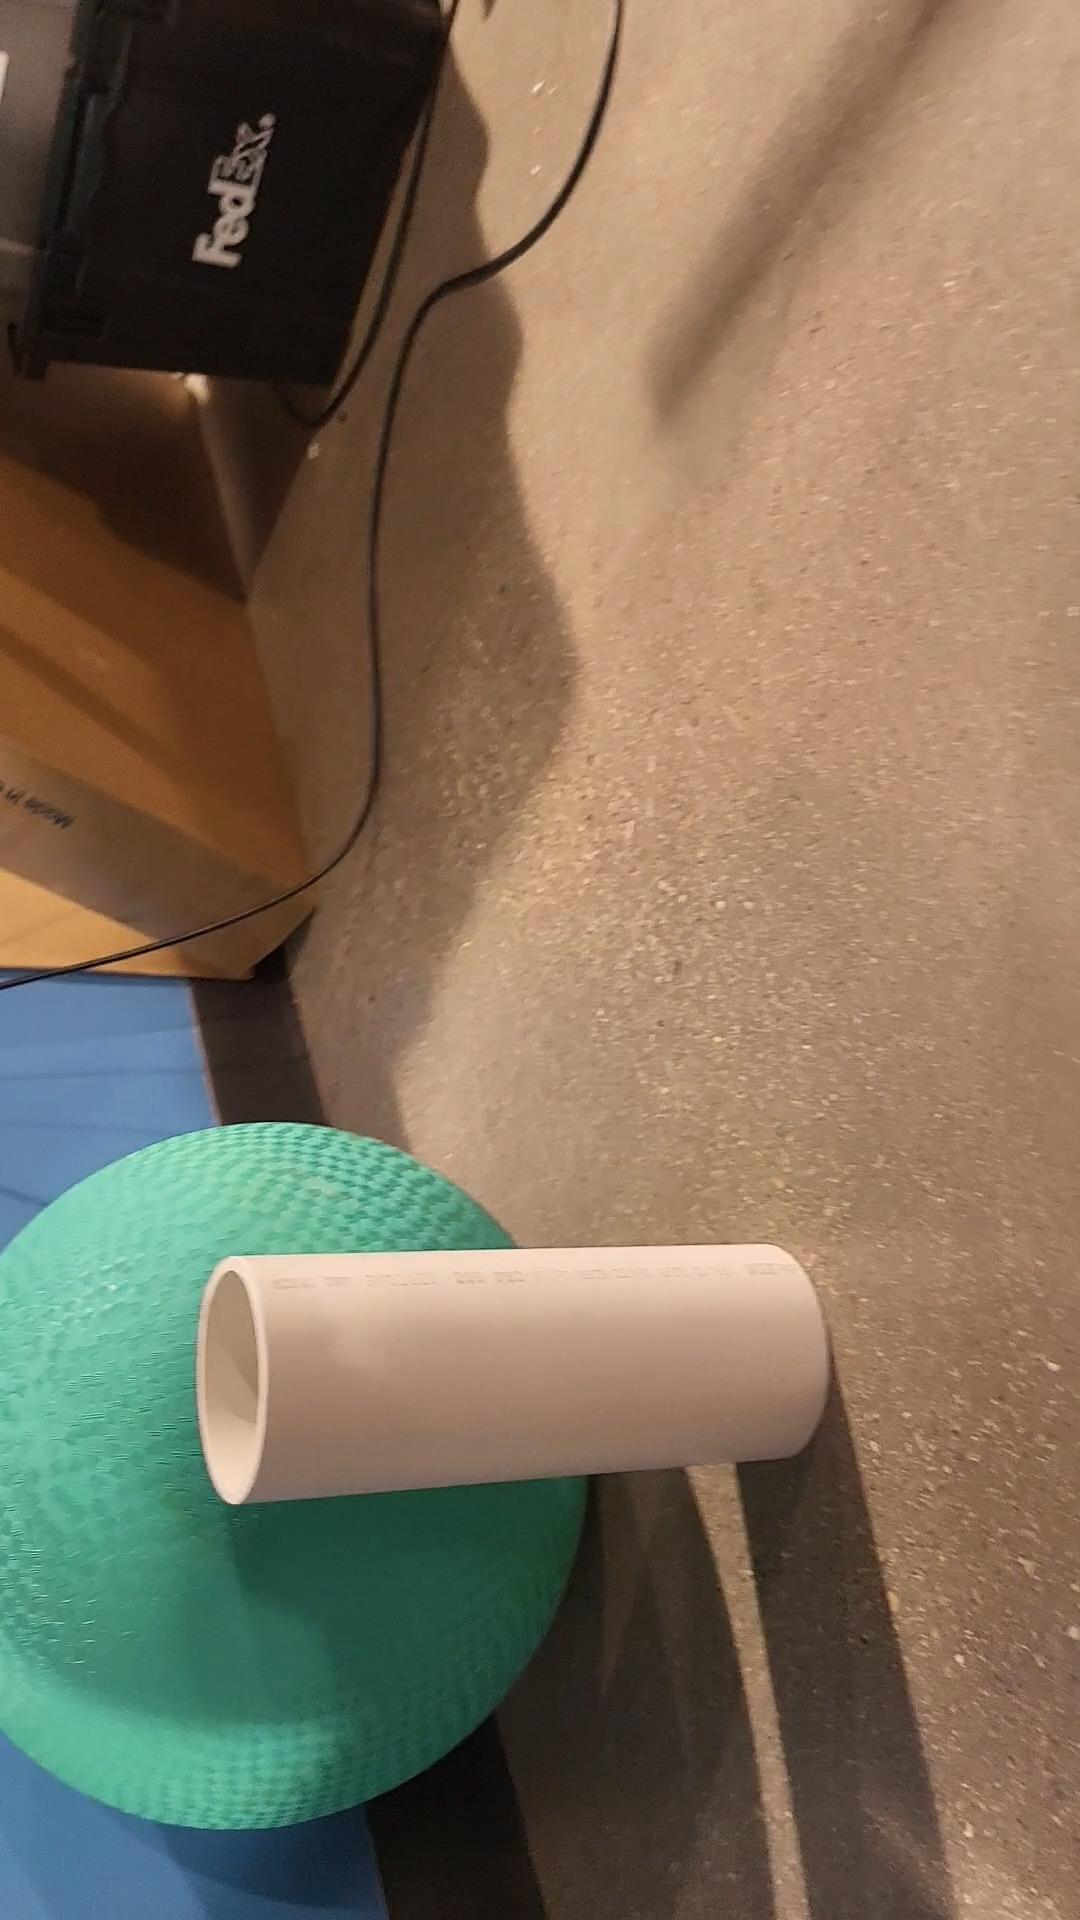algae: (0, 1120, 588, 1830)
coral: (203, 1236, 829, 1502)
